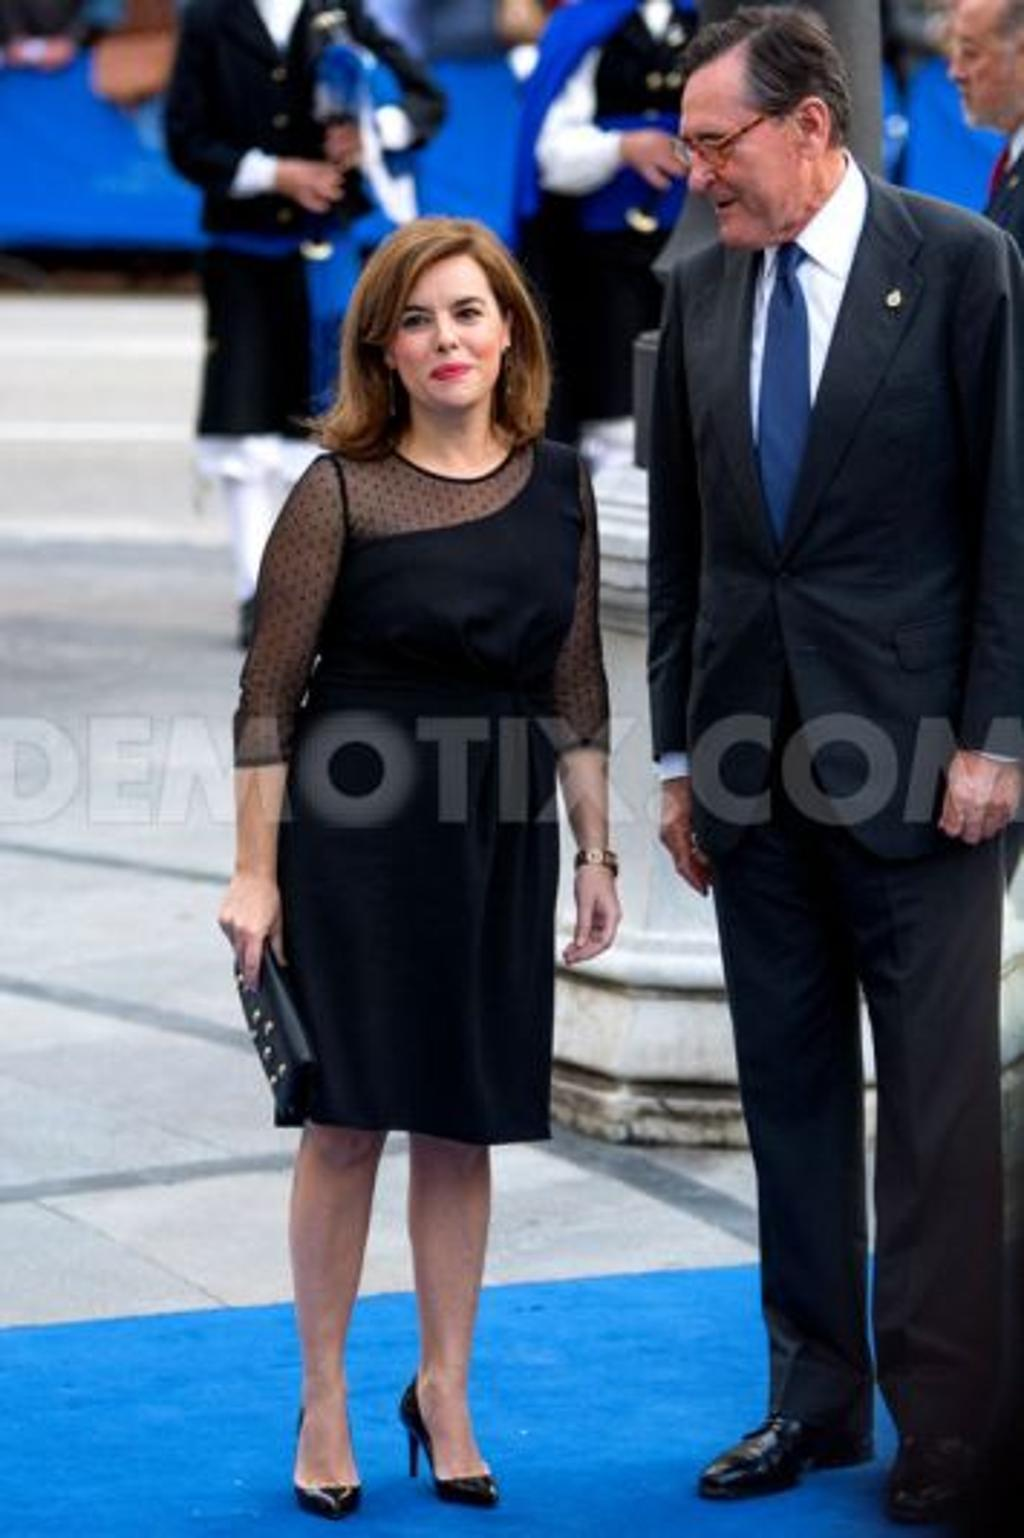face: (676, 75, 802, 252), (393, 243, 504, 414), (943, 9, 1021, 123)
